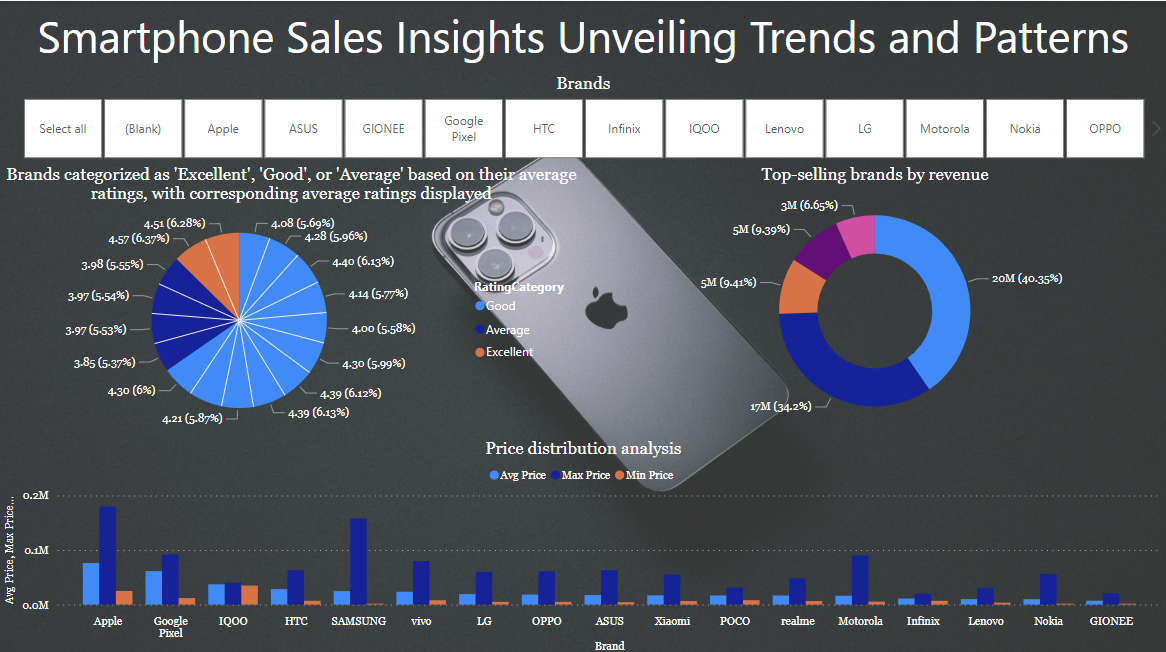

The page's visual inventory and layout, read from the dashboard file:
{"tool":"powerbi","page":{"name":"Dashboard 5","canvas":[1280,720],"ordinal":3},"visuals":[{"type":"textbox","box":[0,0,1280.3,79.6],"z":0},{"type":"slicer","title":"Brands","fields":{"Values":["1.Brand"]},"box":[0,79.6,1280.3,100.2],"z":1000},{"type":"pieChart","title":"Brands categorized as ''Excellent'', ''Good'', or ''Average'' based on their average ratings, with corresponding average ratings displayed","fields":{"Category":["14.RatingCategory"],"Y":["Sum(14.AvgRating)"],"Series":["14.Brand"]},"box":[0,179.8,639.5,300.5],"z":2000},{"type":"donutChart","title":"Top-selling brands by revenue","fields":{"Category":["15.Brand"],"Y":["Sum(15.TotalRevenue)"]},"box":[640.8,179.8,639.5,300.5],"z":3000},{"type":"clusteredColumnChart","title":"Price distribution analysis","fields":{"Y":["Sum(16.AvgPrice)","Sum(16.MaxPrice)","Sum(16.MinPrice)"],"Category":["16.Brand"]},"box":[0,480.3,1280.3,240.1],"z":4000}]}

Visuals, with their boxes in screenshot pixels (x1, y1, x2, y2), scaled from the page's 1280x720 canvas onto the 1166x652 screenshot:
textbox: {"left": 0, "top": 0, "right": 1165, "bottom": 72}
"Brands" slicer: {"left": 0, "top": 72, "right": 1165, "bottom": 163}
"Brands categorized as ''Excellent'', ''Good'', or ''Average'' based on their average ratings, with corresponding average ratings displayed" pieChart: {"left": 0, "top": 163, "right": 583, "bottom": 435}
"Top-selling brands by revenue" donutChart: {"left": 584, "top": 163, "right": 1165, "bottom": 435}
"Price distribution analysis" clusteredColumnChart: {"left": 0, "top": 435, "right": 1165, "bottom": 651}
